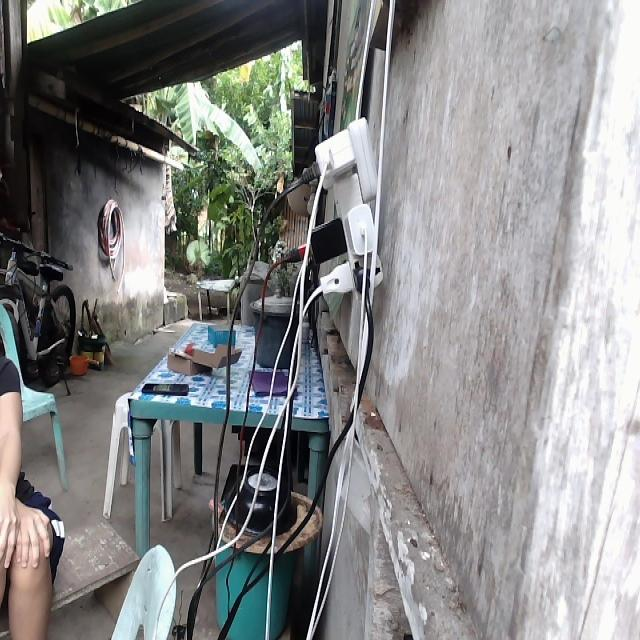-: (300, 117, 381, 295)
